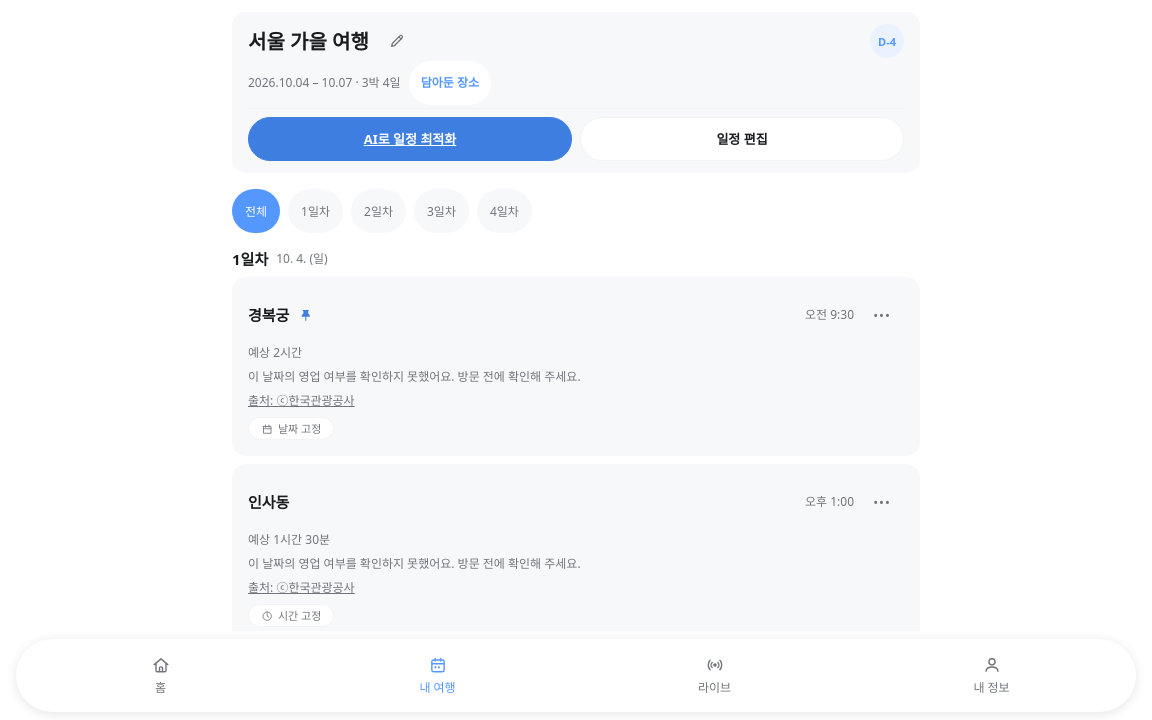
Test: FE-301-T3 the screen is reachable and named › switches to the Figma edit state instead of appending the metadata form
The width and height of the screenshot is (1152, 720).
Click the button "일정 편집".
click(742, 139)  # box [580,117,904,161]
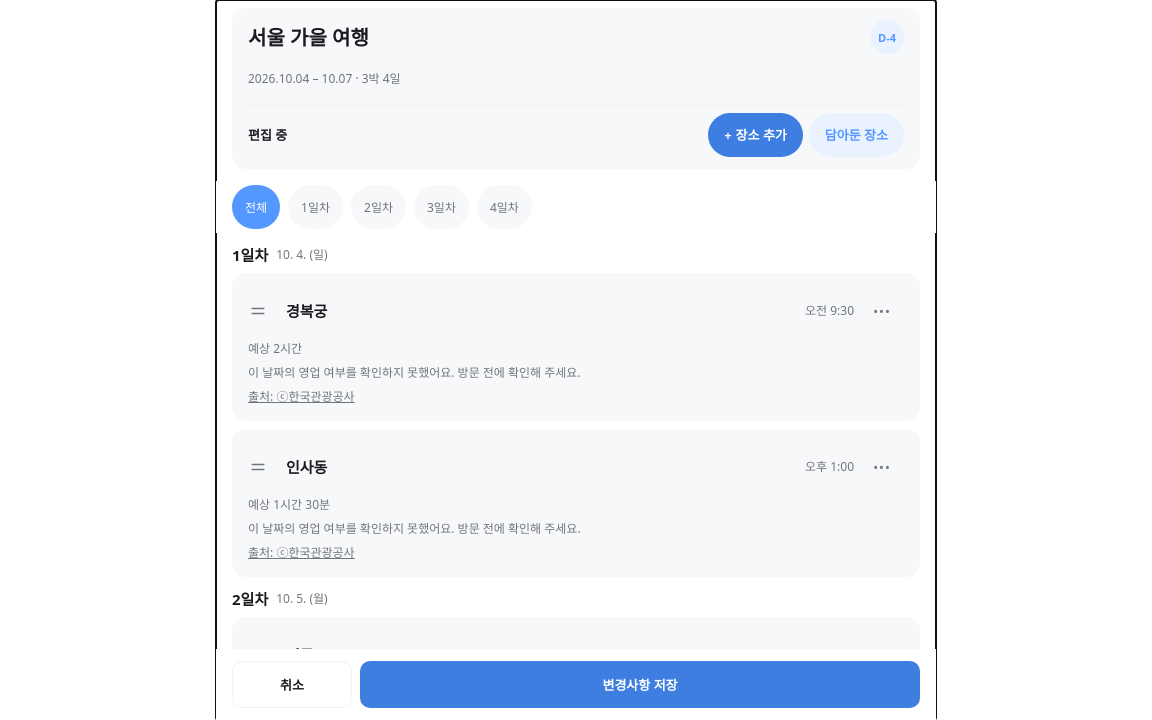
expect the text "편집 중" is shown: met, box [248,126,287,144]
expect the link "+ 장소 추가" is shown: met, box [708,113,803,157]
expect the link "AI로 일정 최적화" is gone: met
